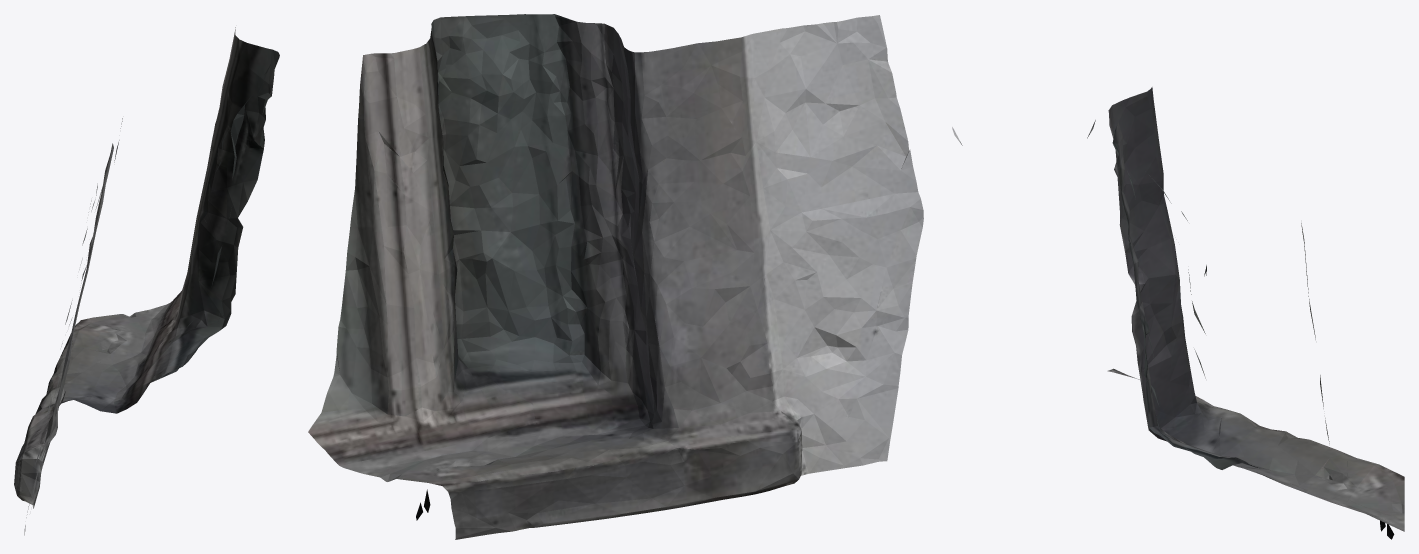
The picture shows the model from 3 angles, left to right: view 1: azimuth 30°, elevation 25°; view 2: azimuth 150°, elevation 25°; view 3: azimuth 270°, elevation 25°; orthographic projection. The views are drawn at different scales.
Bounding box in the file's own units: 0.8374 × 0.8373 × 0.8374.
Materials: 4 (4 with a texture image).
